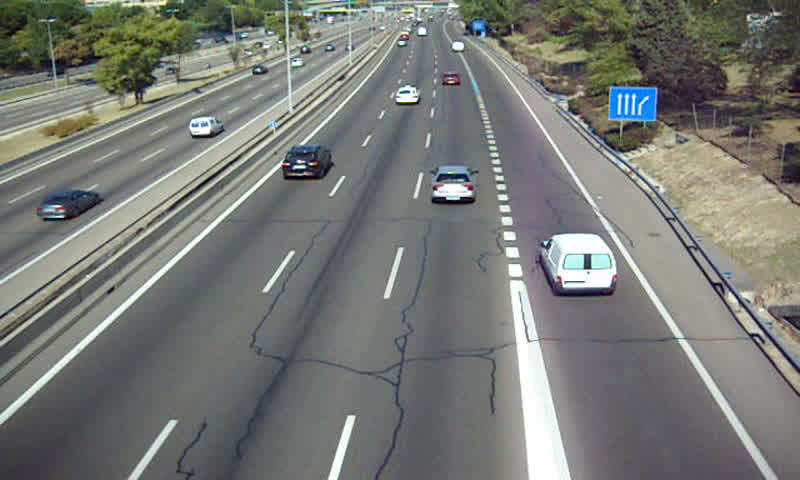car: (430, 165, 476, 203), (281, 145, 331, 179), (394, 86, 421, 104), (442, 73, 461, 88)
van: (539, 234, 619, 297)
